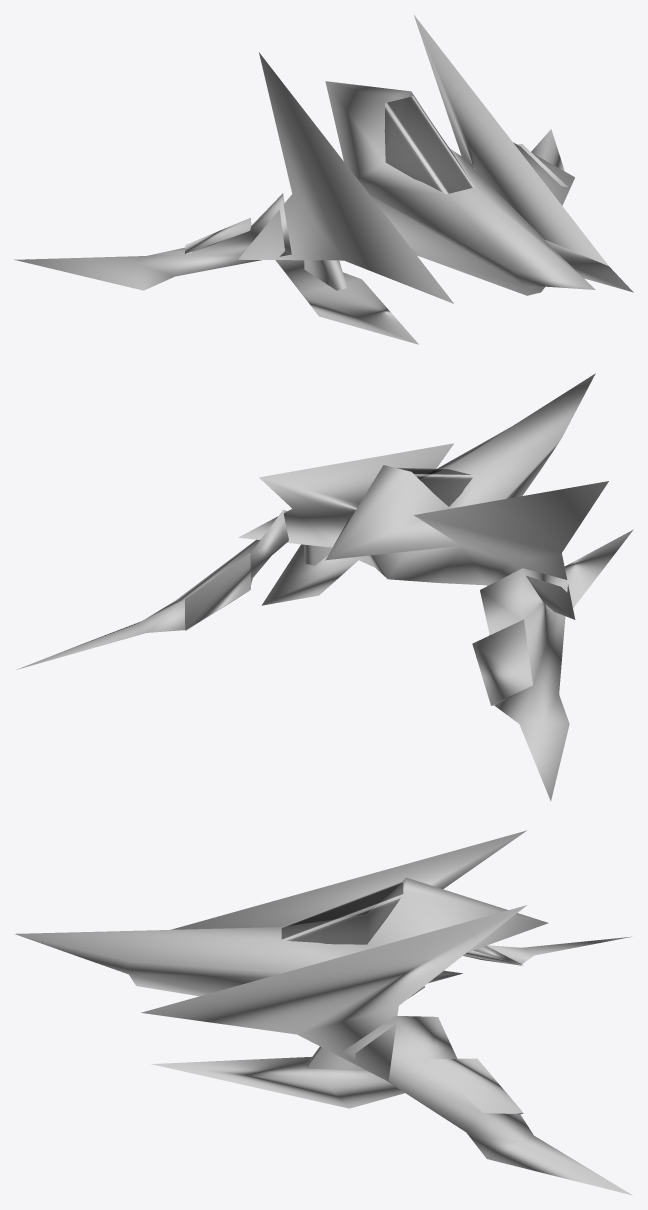
Rendered from arwingNew58.obj.
3 views of the same model, one above another, from view 1: azimuth 30°, elevation 25°; view 2: azimuth 150°, elevation 25°; view 3: azimuth 270°, elevation 25° (orthographic).
Parts seen in each view (by area): view 1: Arwing.002; view 2: Arwing.002; view 3: Arwing.002.
Boxes of the visible parts, left/top/right/bottom form: Arwing.002: left=14, top=15, right=633, bottom=344; Arwing.002: left=16, top=373, right=633, bottom=801; Arwing.002: left=15, top=830, right=632, bottom=1195.
Bounding box in the file's own units: 6.01 × 2.15 × 6.08.
